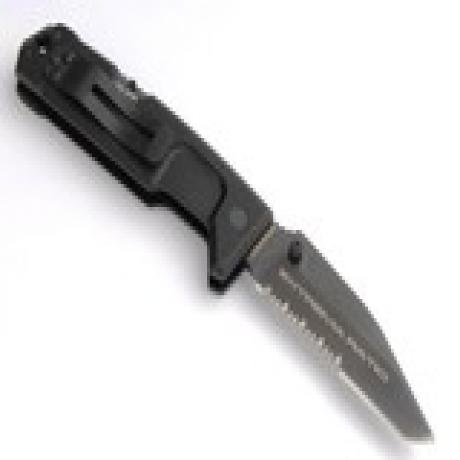weapon: (4, 15, 452, 454)
